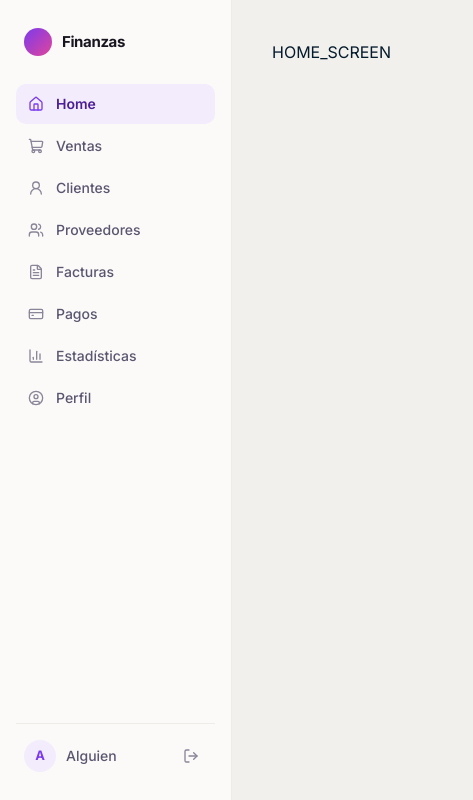
Test: AppLayout — orden de la navegación principal (C-44) › activar Estadísticas desde su nueva posición navega a /estadisticas y monta la misma pantalla
Click the link "Estadísticas" at [82, 356], box [28,347,136,364]
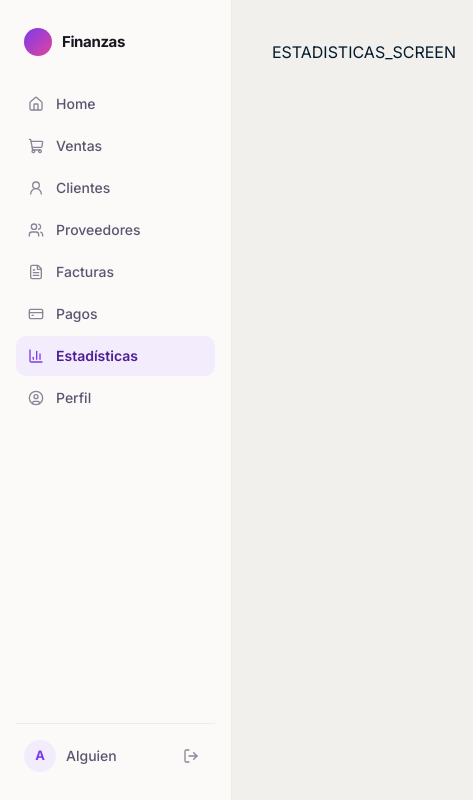
Expected: the text "ESTADISTICAS_SCREEN" is shown, [272,42,456,62]
